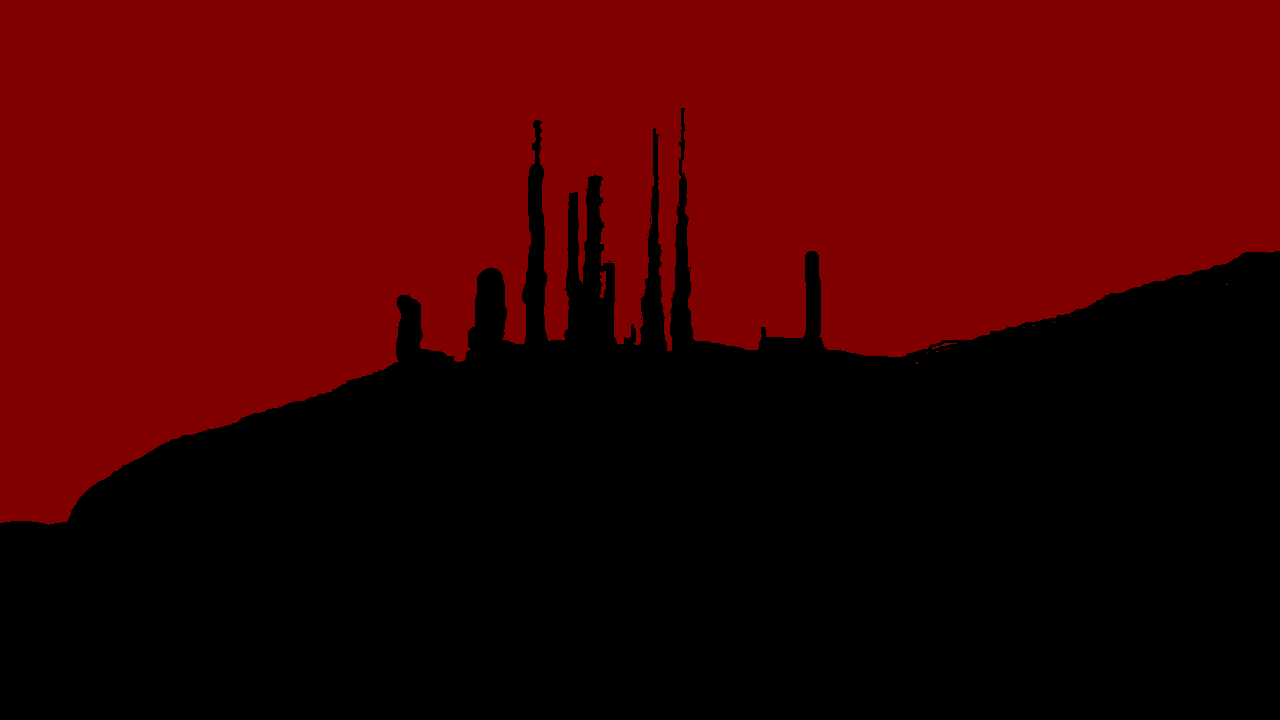Sky: (1, 1, 1279, 524)
